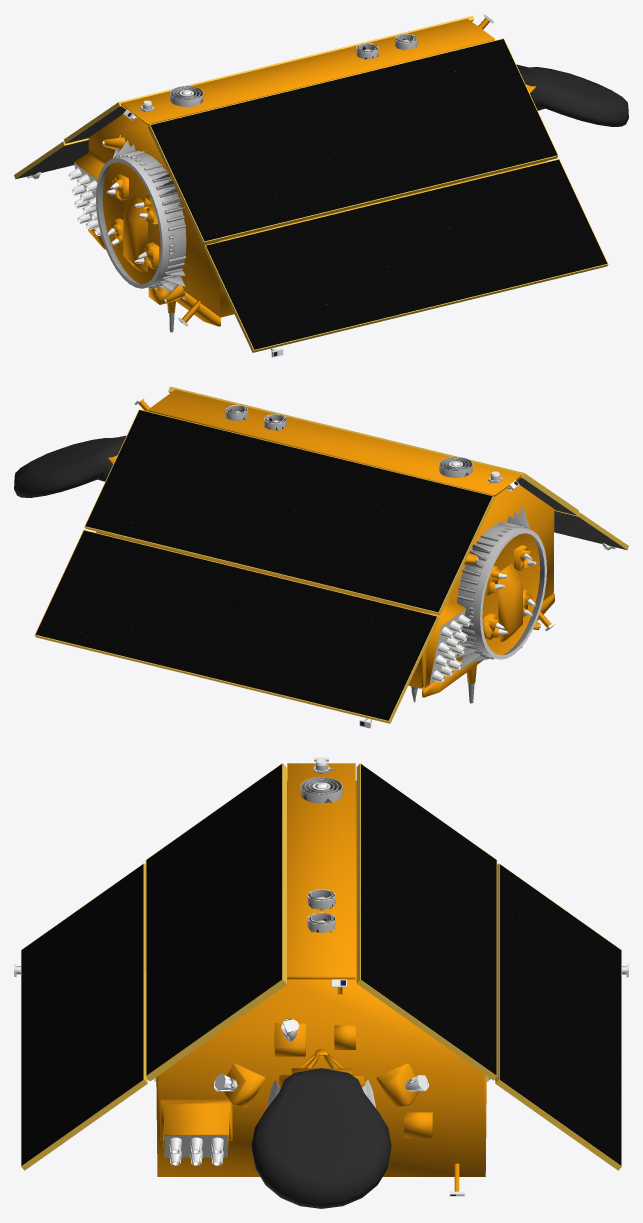
The model's file is sentinel6.glb.
The picture shows the model from 3 angles, top to bottom: view 1: azimuth 30°, elevation 25°; view 2: azimuth 150°, elevation 25°; view 3: azimuth 270°, elevation 25°; orthographic projection. The views are drawn at different scales.
Visible parts, largest first — view 1: array, BUS, GNSS_POD_RO_SPA; view 2: array, BUS, GNSS_POD_RO_SPA; view 3: array, BUS, GNSS_POD_RO_SPA.
Boxes of the visible parts, x1,y1,x2,y2 form: array: (14, 15, 608, 352); BUS: (16, 14, 628, 357); GNSS_POD_RO_SPA: (96, 33, 417, 300); array: (34, 386, 628, 723); BUS: (14, 389, 626, 728); GNSS_POD_RO_SPA: (225, 404, 546, 671); array: (21, 763, 621, 1170); BUS: (14, 757, 628, 1208); GNSS_POD_RO_SPA: (300, 759, 342, 932).
Bounding box in the file's own units: 5.13 × 2.32 × 4.37.
Materials: 8 (8 with a texture image).
